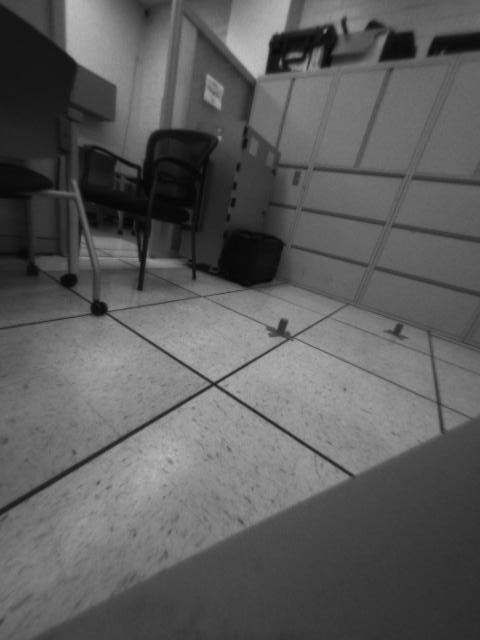X: (263, 316, 299, 342), (381, 321, 412, 343)
